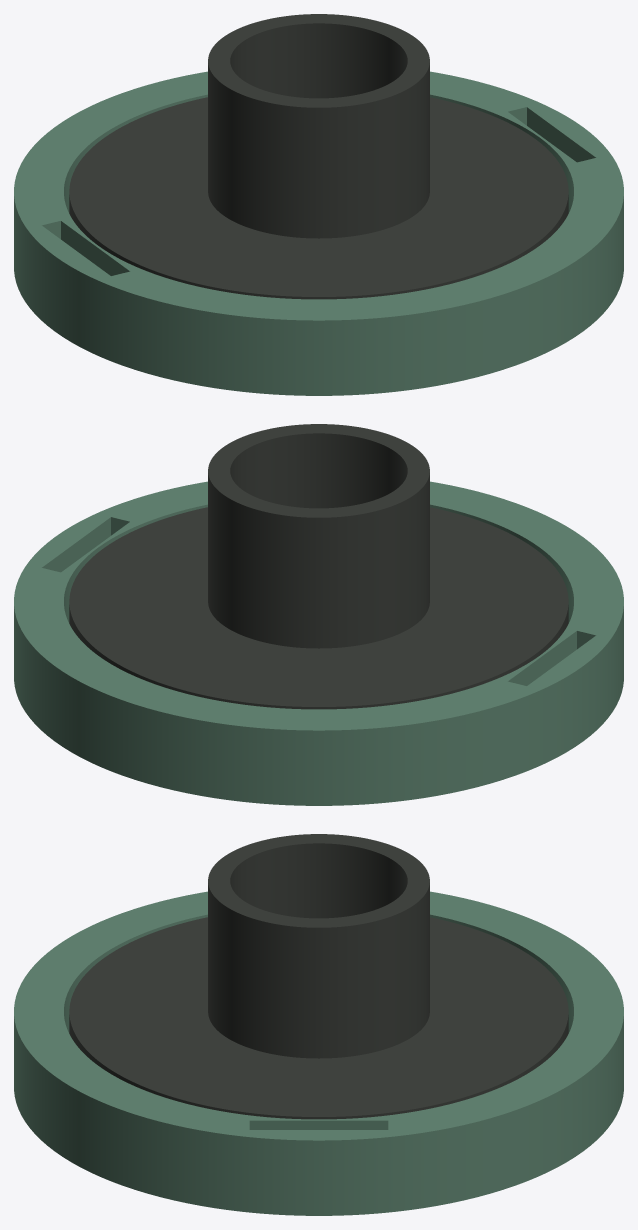
3 views of the same model, one above another, from view 1: azimuth 30°, elevation 25°; view 2: azimuth 150°, elevation 25°; view 3: azimuth 270°, elevation 25° (orthographic).
Visible parts, largest first — view 1: washer-carrier, steel-washer, steel-spacer; view 2: washer-carrier, steel-washer, steel-spacer; view 3: washer-carrier, steel-washer, steel-spacer.
Boxes of the visible parts, <box> form: washer-carrier: <box>14,71,623,395</box>; steel-washer: <box>69,97,568,299</box>; steel-spacer: <box>208,14,429,238</box>; washer-carrier: <box>14,481,623,805</box>; steel-washer: <box>69,507,568,709</box>; steel-spacer: <box>208,424,429,648</box>; washer-carrier: <box>14,891,623,1215</box>; steel-washer: <box>69,917,568,1119</box>; steel-spacer: <box>208,834,429,1058</box>.
Size of the model in its own units: 0.022 by 0.0082 by 0.022.
